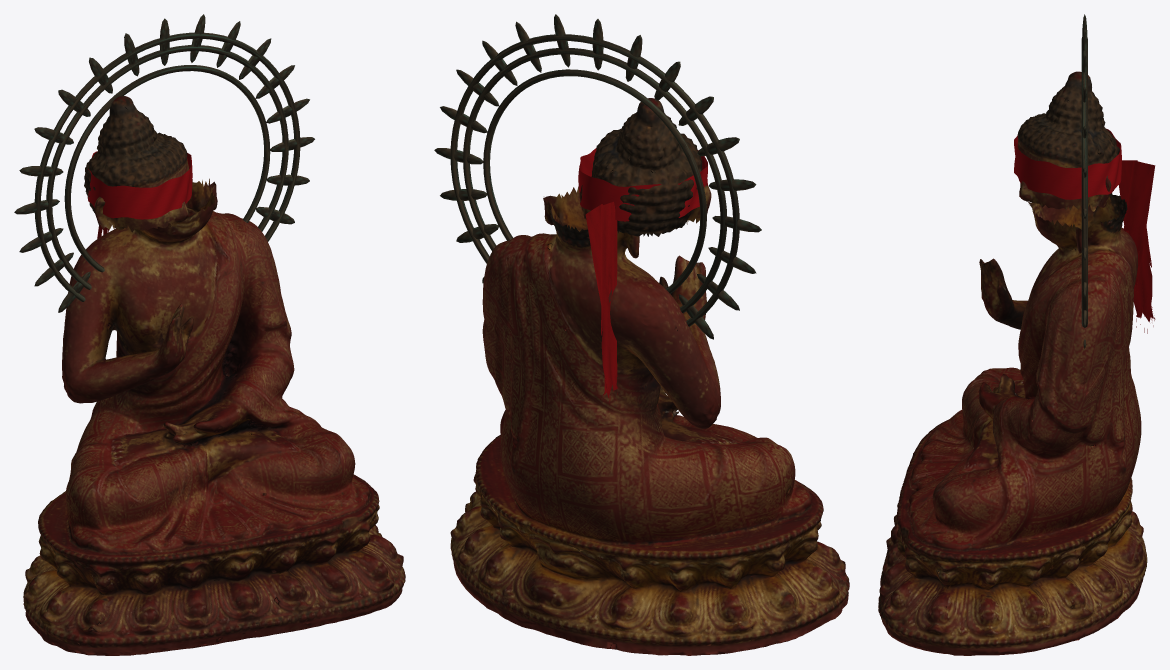
The model's file is blindfolded_buddha.glb.
3 renders of one model, left to right at view 1: azimuth 30°, elevation 25°; view 2: azimuth 150°, elevation 25°; view 3: azimuth 270°, elevation 25°, orthographic. The views are drawn at different scales.
Visible parts, largest first — view 1: BlindfoldedAmoghasiddhi; view 2: BlindfoldedAmoghasiddhi, WeatheredCloth (×2); view 3: BlindfoldedAmoghasiddhi, WeatheredCloth (×2).
Boxes of the visible parts, x1=… form: BlindfoldedAmoghasiddhi: x1=14, y1=14, x2=405, y2=655; BlindfoldedAmoghasiddhi: x1=434, y1=14, x2=849, y2=655; WeatheredCloth (×2): x1=585, y1=201, x2=617, y2=402; BlindfoldedAmoghasiddhi: x1=878, y1=14, x2=1147, y2=655; WeatheredCloth (×2): x1=1119, y1=160, x2=1155, y2=333.
Size of the model in its own units: 2.58 by 3.97 by 1.82.
Materials: 5 (5 with a texture image).
